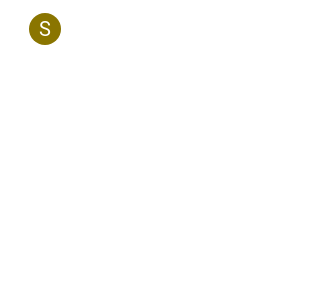
Test: UI Components › UserOptions › opens the user menu and navigates to profile, create post, and edit profile
Later steps or results of the test are not shown.
What coordinates should you click on to do the following:
click the button
I would click on:
 (45, 29)
Its box is left=24, top=8, right=66, bottom=50.
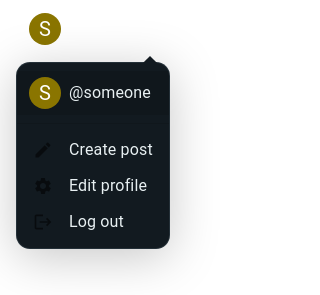
Now the menu item "Create post" is shown, box left=33, top=140, right=153, bottom=160
Now the menu item "Edit profile" is shown, box left=33, top=176, right=147, bottom=196
Now the menu item "Log out" is shown, box left=33, top=212, right=124, bottom=232
